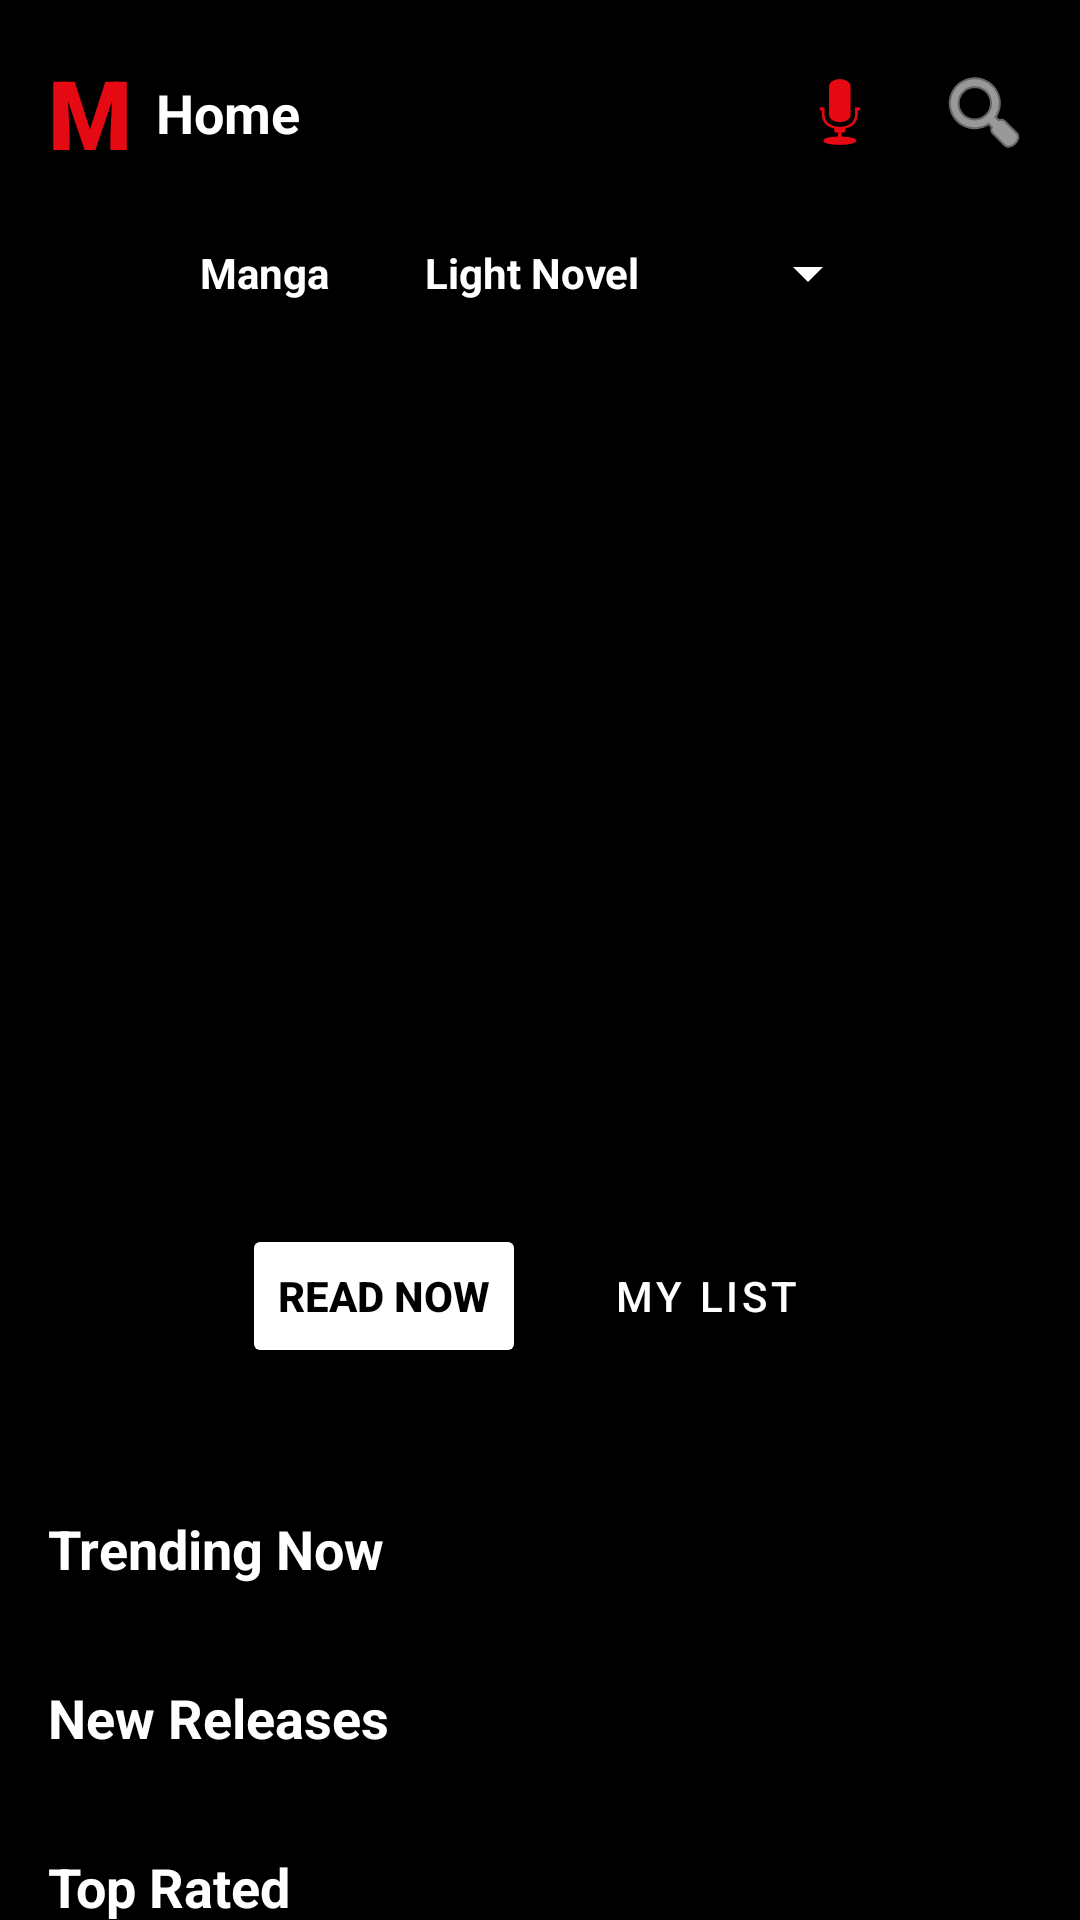

Named icons in this screenshot (1080px x 1920px) and their bounding boxes, [x1, y1, x2, y2]:
search: [948, 77, 1020, 148]
speak now: [819, 79, 861, 145]
